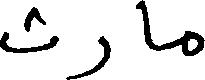X: (0, 2, 56, 57), (69, 31, 109, 79), (183, 26, 204, 60), (143, 0, 152, 53)
